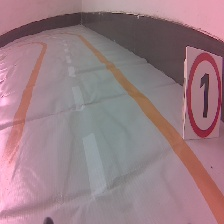limit: (181, 42, 222, 142)
